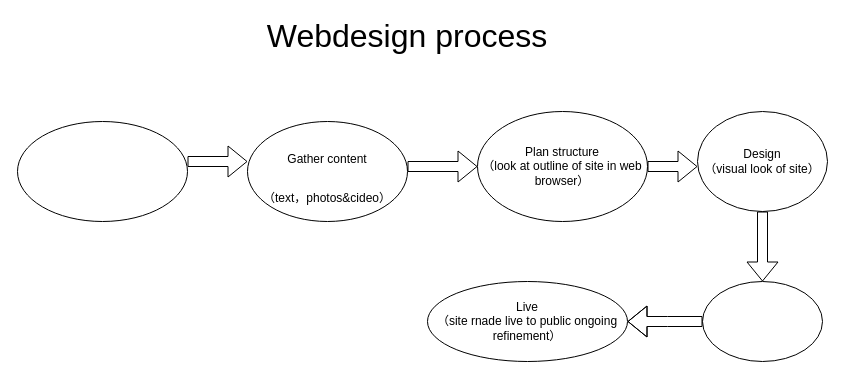
This 845x379 diagram has some shape labels left out. The shapes that lost their labels are listed below. From the top down, each one's centre as x and y in pixels, then its label:
point 102,171: Planning stage （site speclfication，site plan）
point 762,321: Testing （fine tune site）
